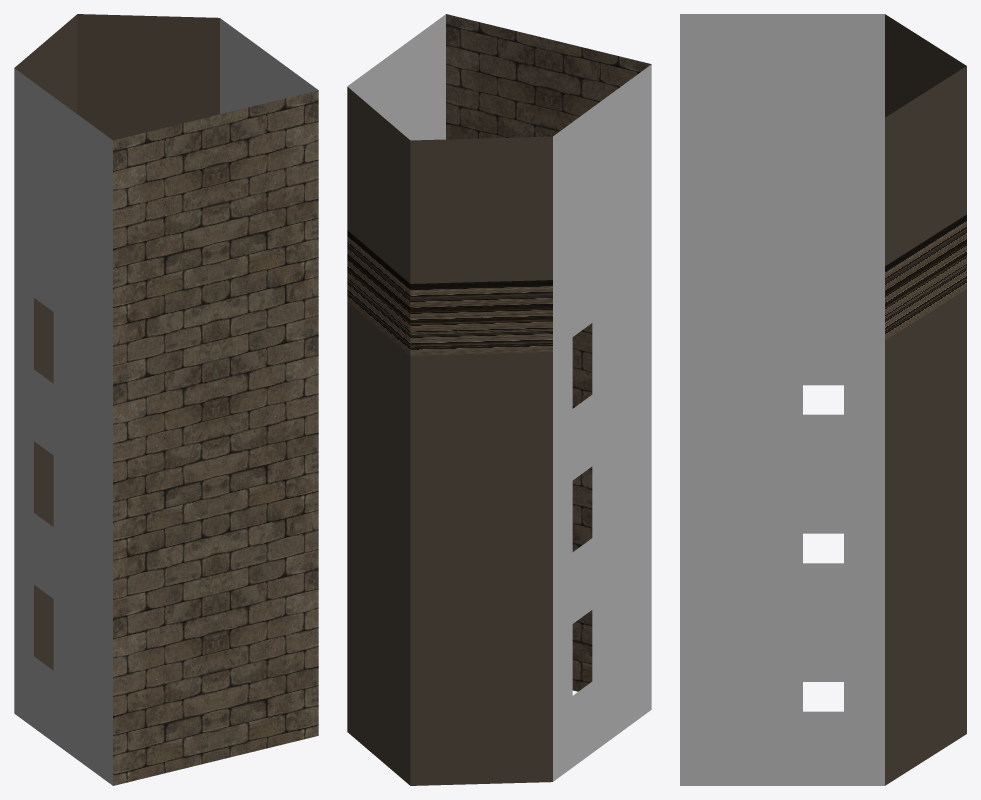
The model's file is building.dae.
3 views of the same model, side by side, from view 1: azimuth 30°, elevation 25°; view 2: azimuth 150°, elevation 25°; view 3: azimuth 270°, elevation 25° (orthographic). The views are drawn at different scales.
Visible parts, largest first — view 1: Plane; view 2: Plane; view 3: Plane.
Boxes of the visible parts, x1=… form: Plane: x1=14, y1=14, x2=318, y2=785; Plane: x1=347, y1=14, x2=651, y2=785; Plane: x1=680, y1=14, x2=966, y2=785.
Size of the model in its own units: 6 by 7 by 18.
